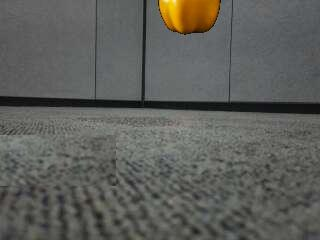Capsicum: (155, 0, 224, 35)
